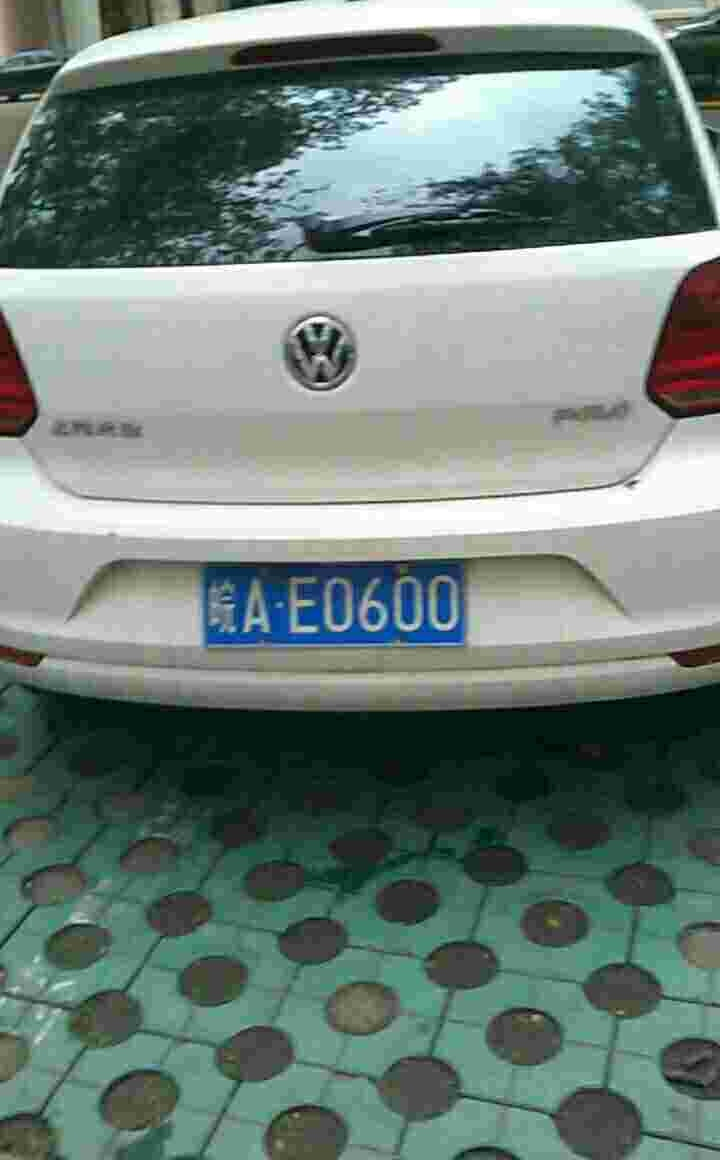plate: (201, 557, 471, 652)
